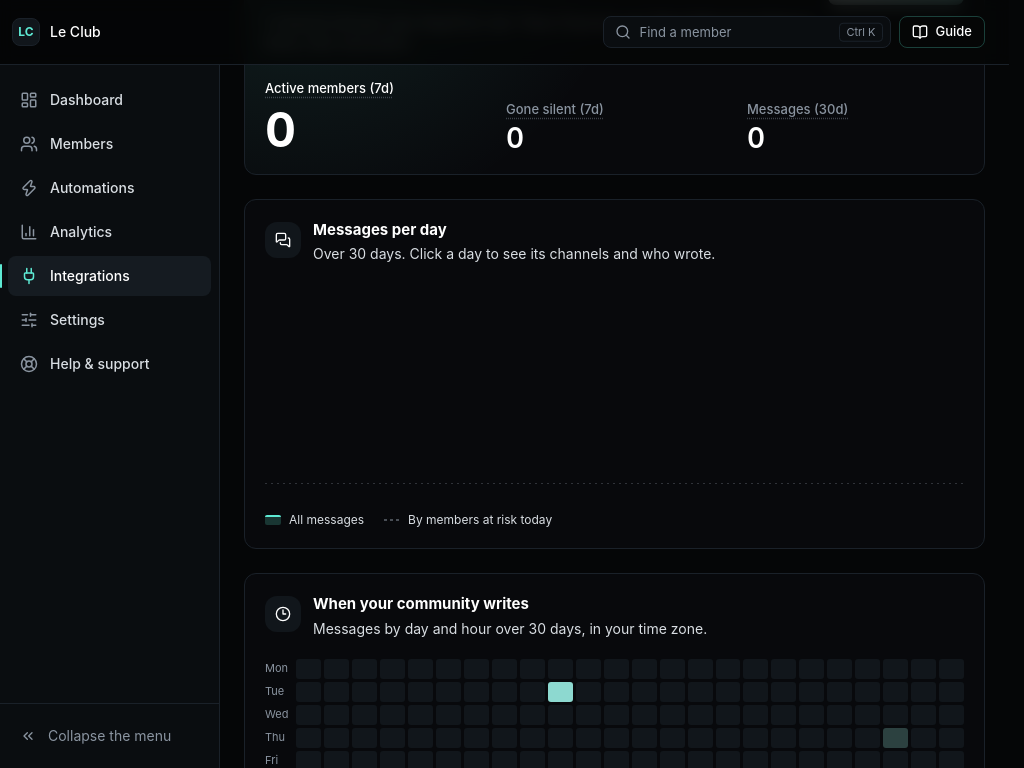
Test: activity sources › picks a day on the chart: its channels and who wrote, until « Back to 30 days »
The width and height of the screenshot is (1024, 768).
(page scrolled)
From today, two days back with the arrows, then Enter.
Press ArrowLeft in the element named "Messages per day", box [265, 284, 964, 484]
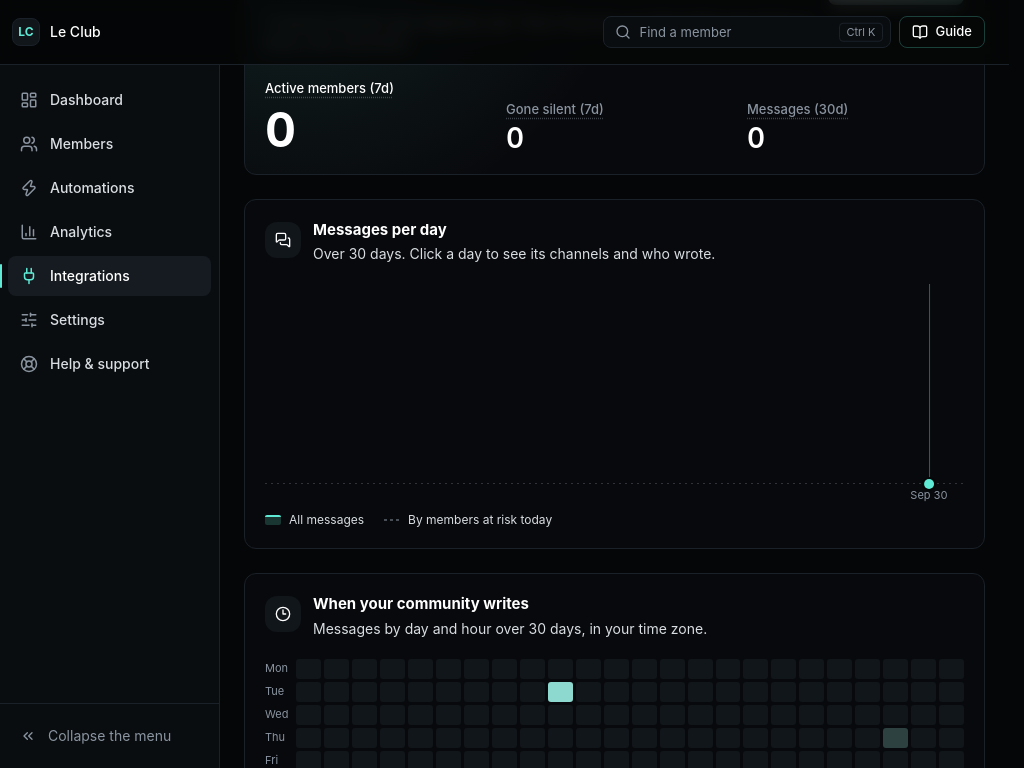
Press ArrowLeft in the element named "Messages per day", box [265, 284, 964, 484]
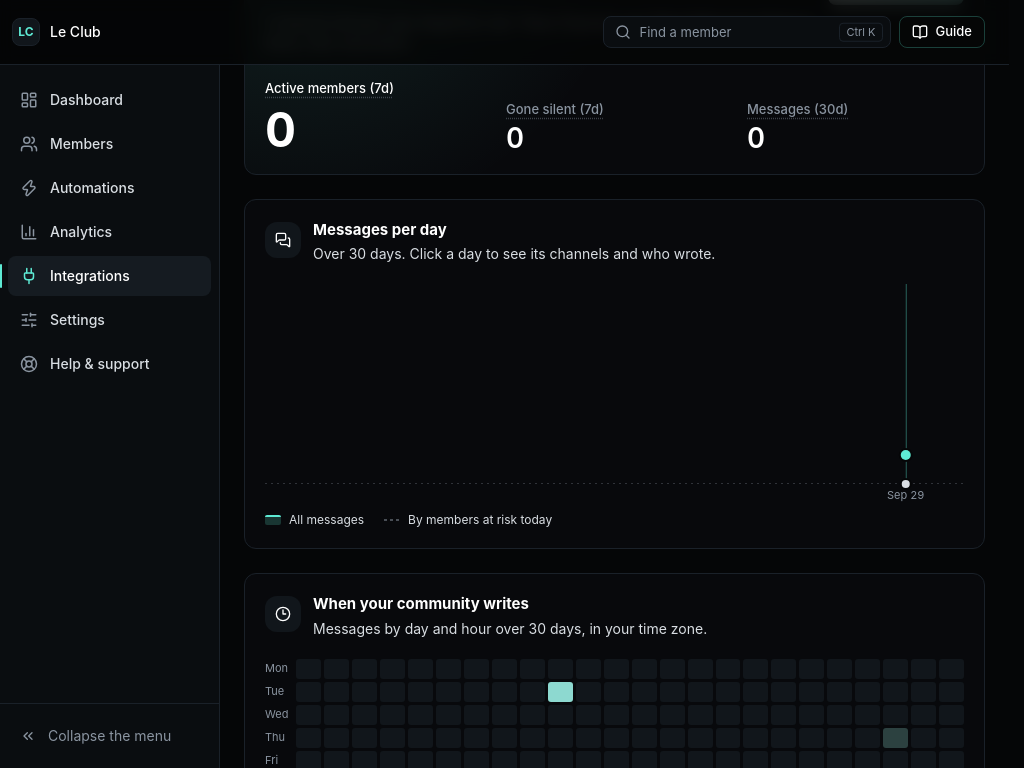
Press Enter in the element named "Messages per day", box [265, 284, 964, 484]
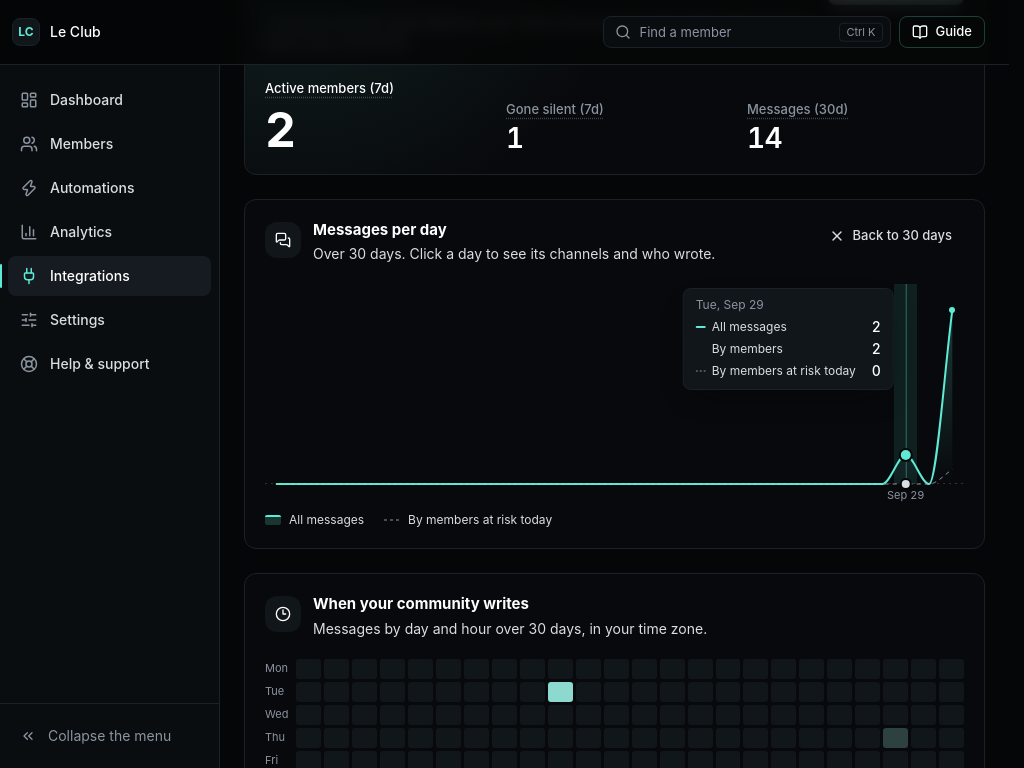
Click the button "Back to 30 days": (890, 236) [816, 220, 964, 252]
(page scrolled)
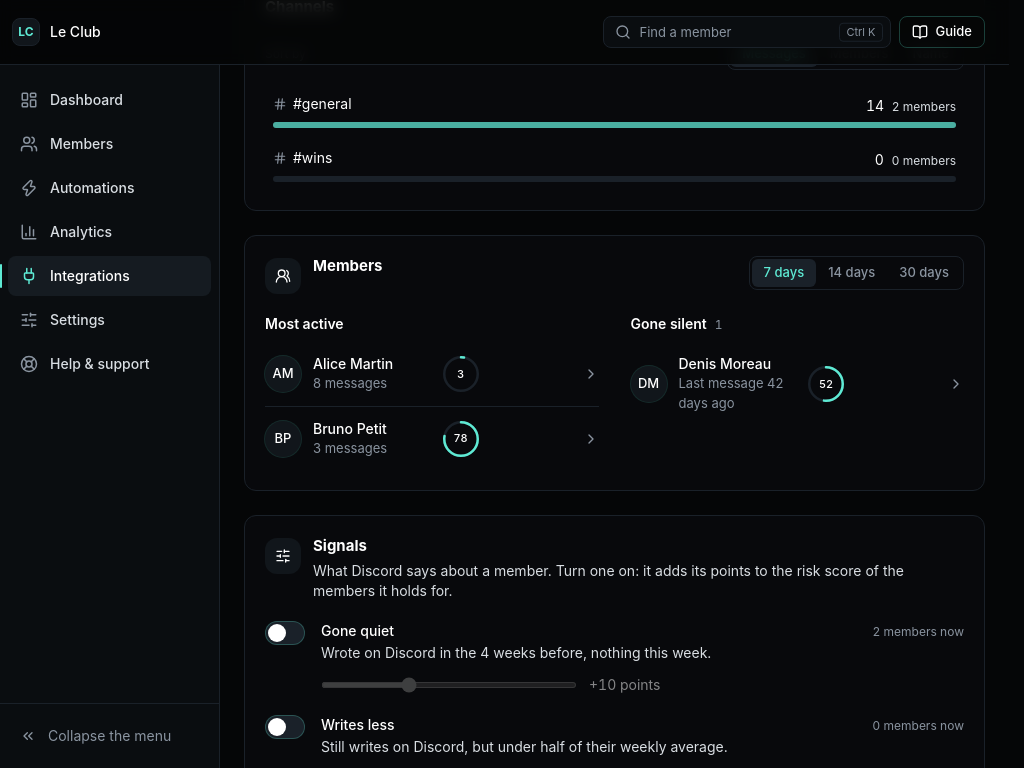
Expected: the text "8 messages" is shown, [313, 374, 387, 394]
